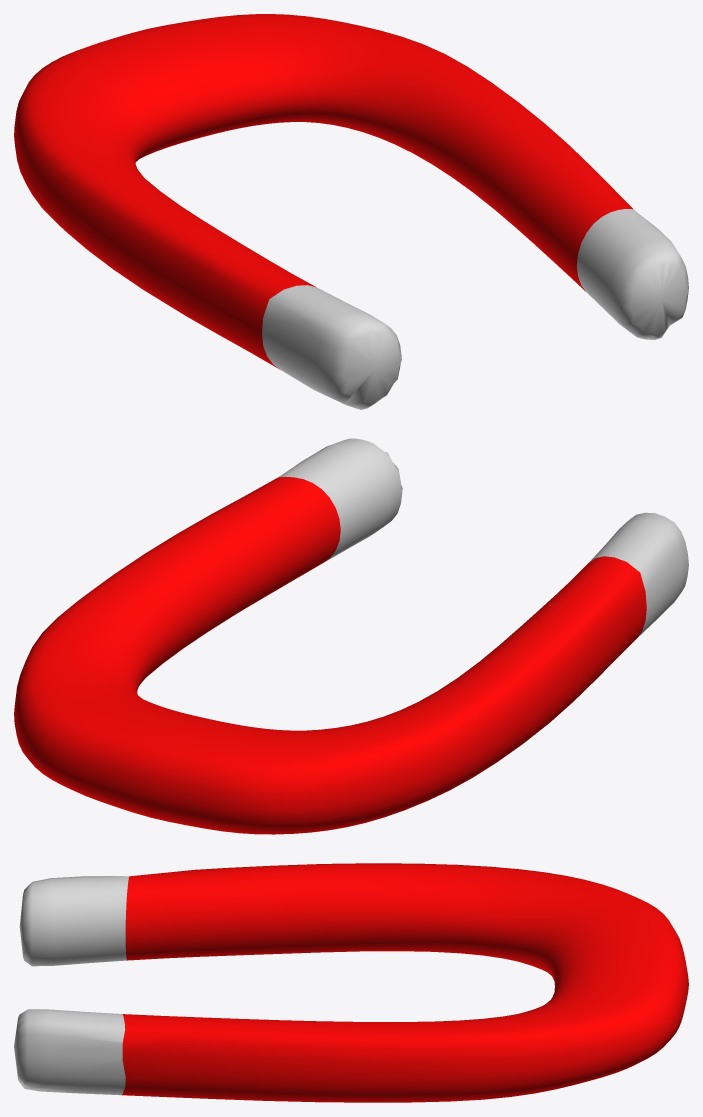
The model's file is Iman2.fbx.
The picture shows the model from 3 angles, top to bottom: view 1: azimuth 30°, elevation 25°; view 2: azimuth 150°, elevation 25°; view 3: azimuth 270°, elevation 25°; orthographic projection. The views are drawn at different scales.
Parts seen in each view (by area): view 1: Torus.001; view 2: Torus.001; view 3: Torus.001.
Part boxes in pixels (<box>): Torus.001: <box>14,14,688,409</box>; Torus.001: <box>14,438,688,834</box>; Torus.001: <box>14,863,688,1102</box>.
Size of the model in its own units: 2.99 by 0.5932 by 4.58.
